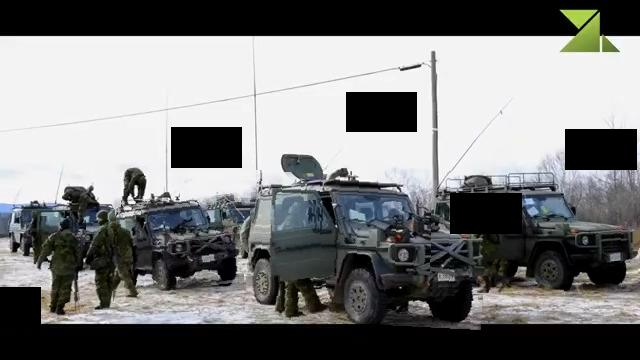MIL_HMMWV: (246, 173, 486, 327), (431, 171, 640, 291), (118, 197, 242, 292), (273, 202, 326, 320), (33, 217, 84, 319), (471, 199, 513, 296), (84, 210, 118, 312), (109, 209, 136, 301), (121, 166, 147, 208)
